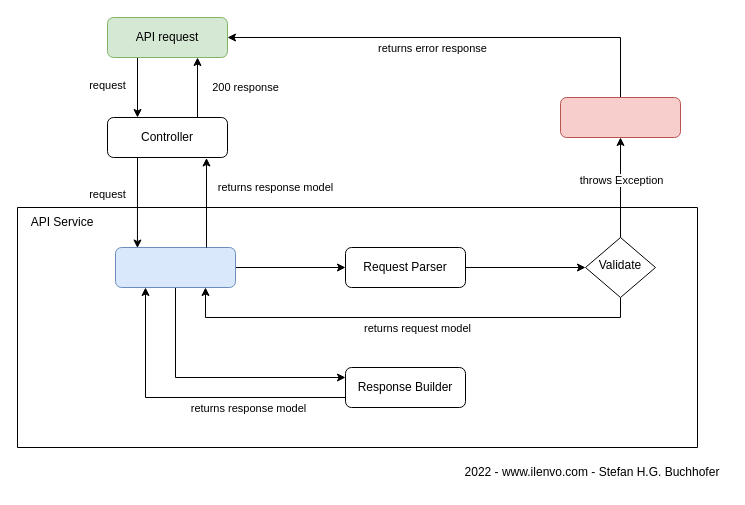
This 745x505 diagram has some shape labels left out. The centre of each missing label's shape, as x and y in pixels:
Exception Listner: [620,117]
Processor: [175,267]
